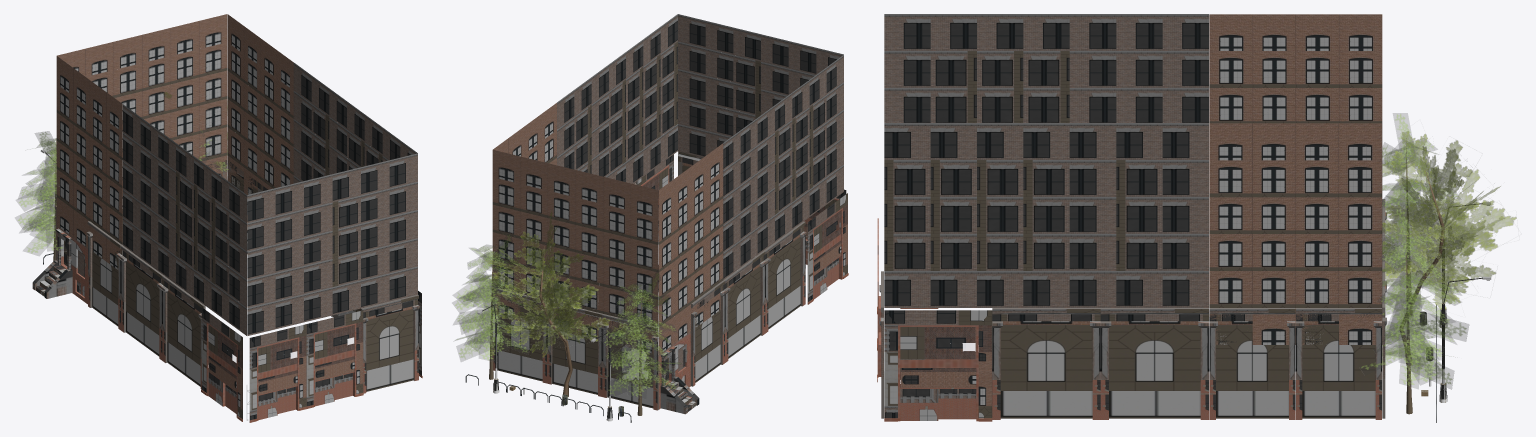
File: proc3_00.gltf
3 renders of one model, left to right at view 1: azimuth 30°, elevation 25°; view 2: azimuth 150°, elevation 25°; view 3: azimuth 270°, elevation 25°, orthographic. The views are drawn at different scales.
Visible parts, largest first — view 1: proc3_00; view 2: proc3_00; view 3: proc3_00.
Boxes of the visible parts, bbox=[...] form: proc3_00: bbox=[15, 14, 422, 422]; proc3_00: bbox=[452, 14, 848, 422]; proc3_00: bbox=[877, 14, 1518, 422].
Size of the model in its own units: 25.07 by 24.01 by 47.44.
9 materials, 8 textured.
